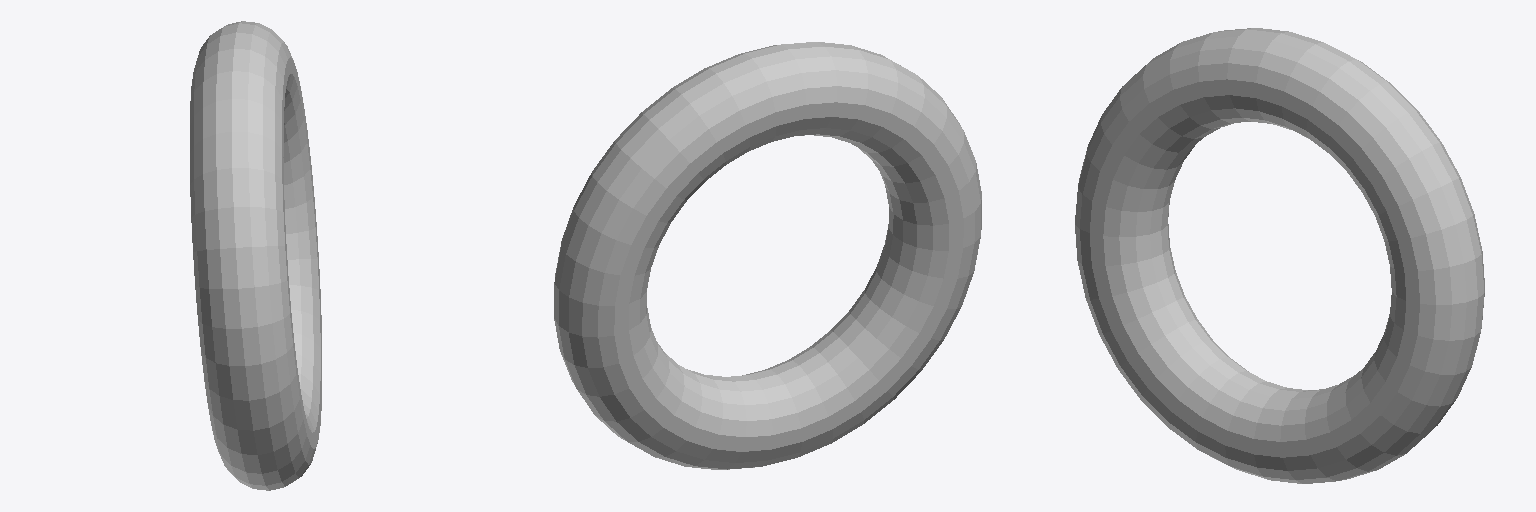
The model's file is ringlight.obj.
The picture shows the model from 3 angles: view 1: azimuth 30°, elevation 25°; view 2: azimuth 150°, elevation 25°; view 3: azimuth 270°, elevation 25°; orthographic projection.
Visible parts, largest first — view 1: Torus; view 2: Torus; view 3: Torus.
Part boxes in pixels (x1,y1,x2,y2): Torus: (190,21,321,490); Torus: (554,42,981,469); Torus: (1075,28,1484,483).
Bounding box in the file's own units: 319 × 497 × 436.